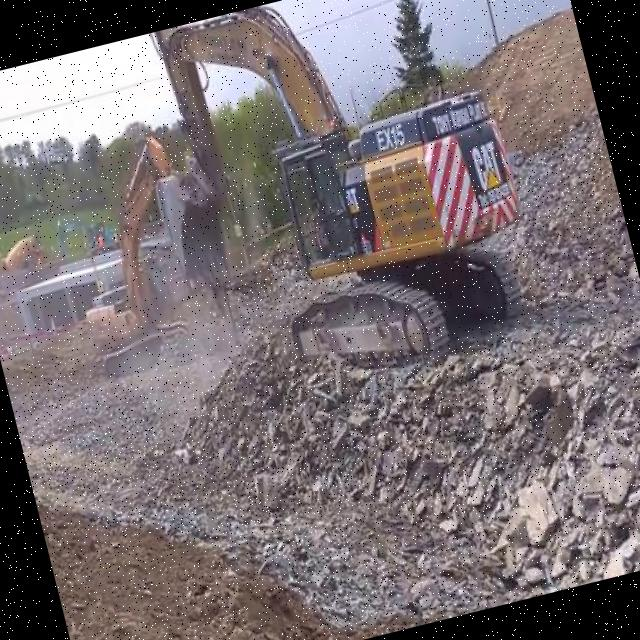Excavator: (127, 0, 549, 406), (40, 125, 218, 382), (50, 198, 126, 278)
